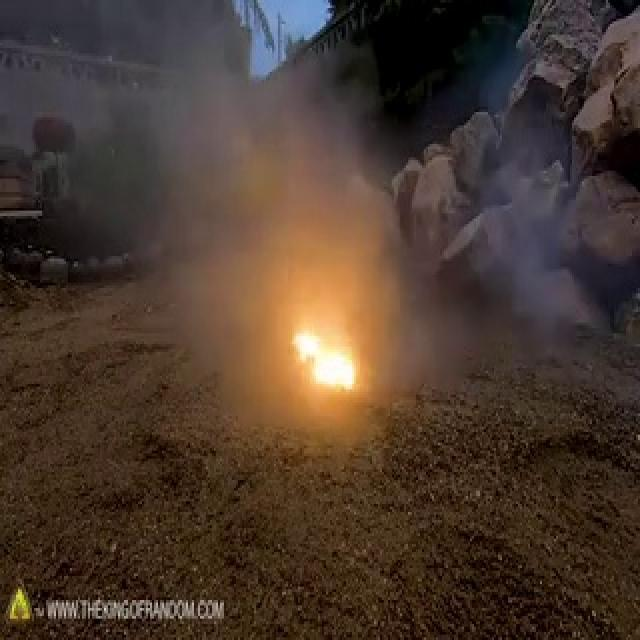fire: (285, 318, 369, 404)
